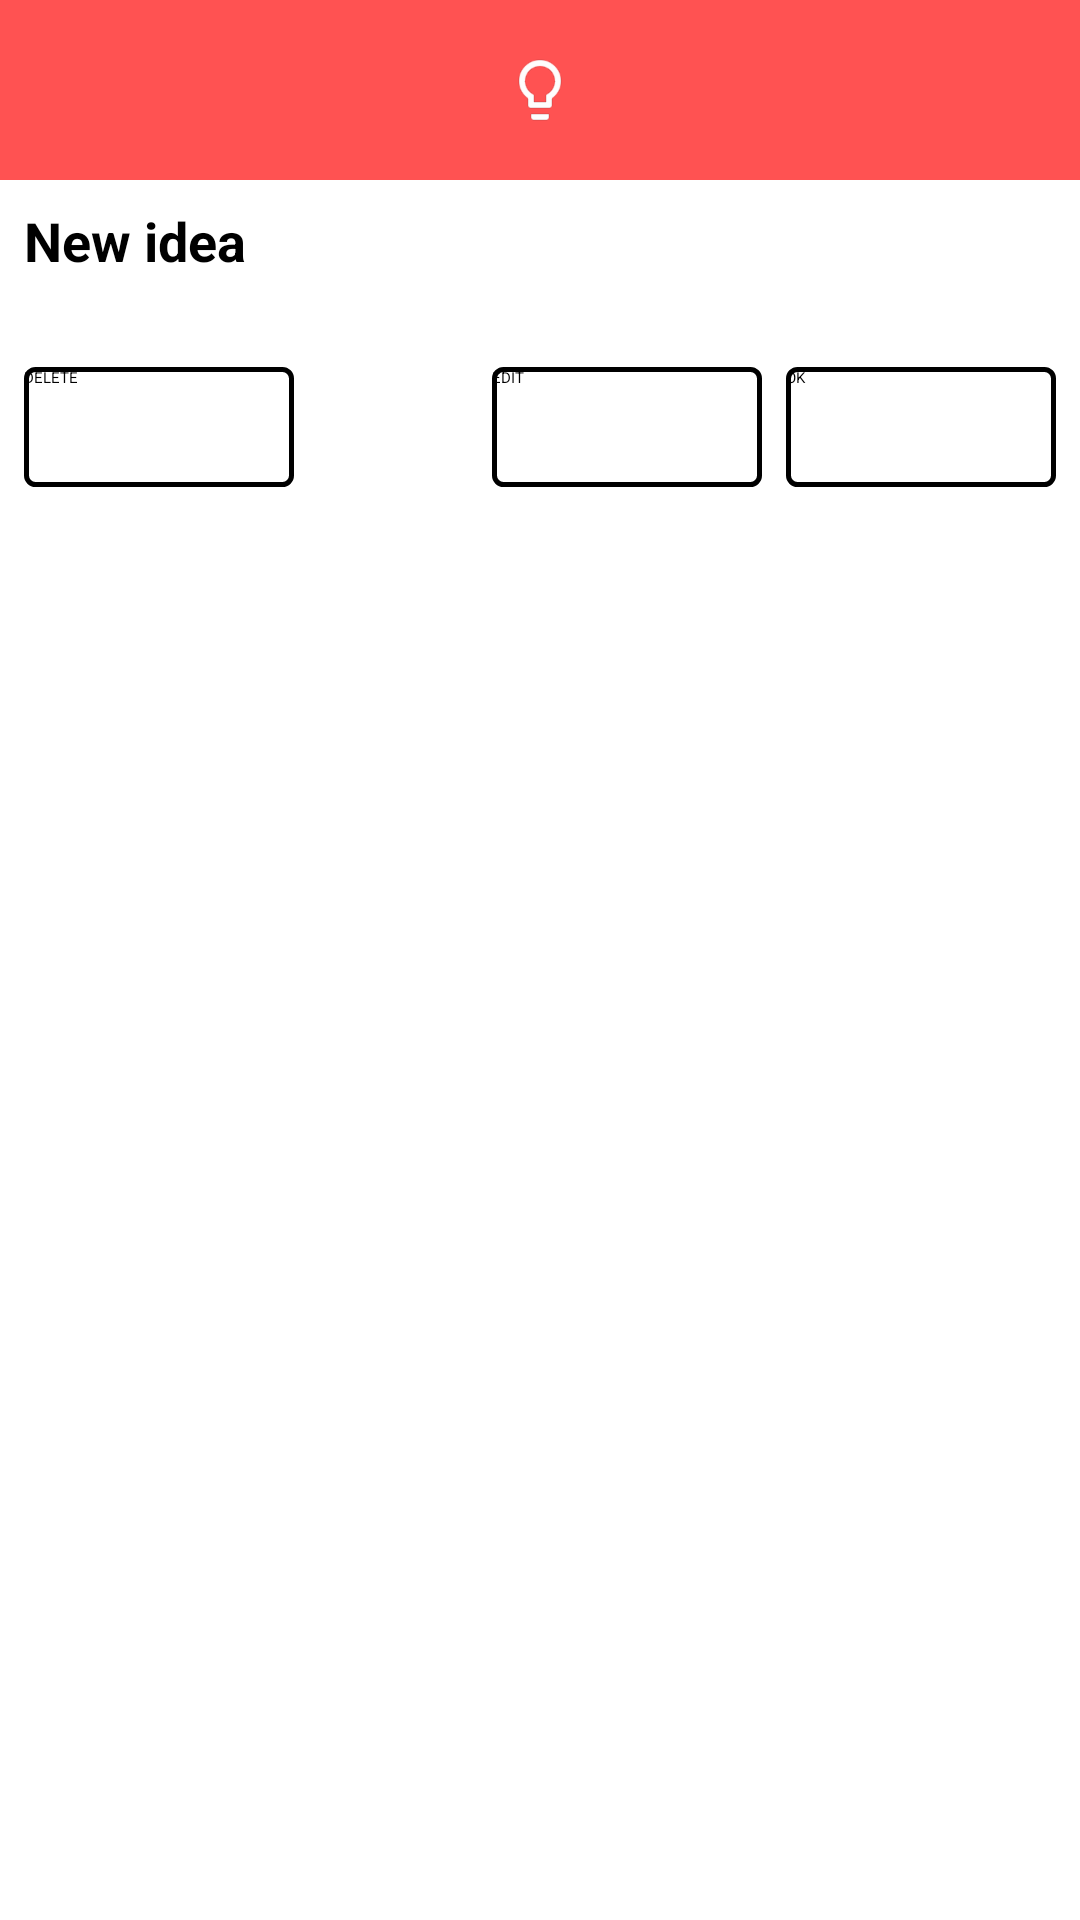

Icons on this 1080px×1920px Android screen, each with its box as (x1, y1, x2, y2):
bulb: (519, 60, 561, 120)
